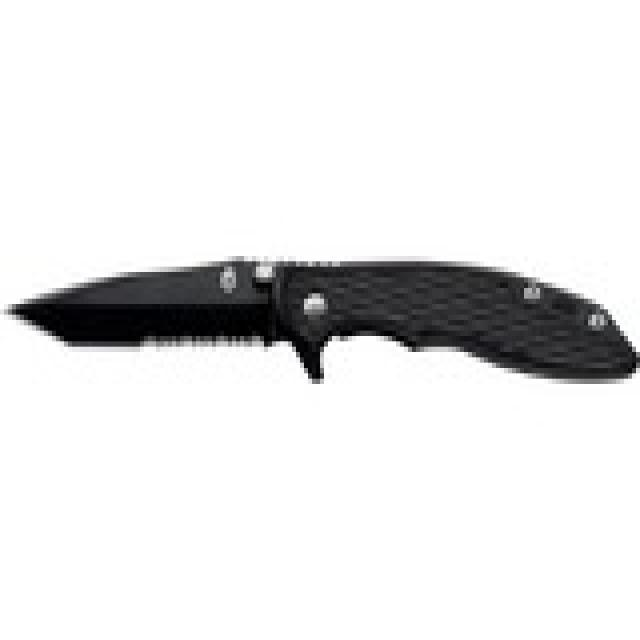Knife: (1, 247, 640, 416)
